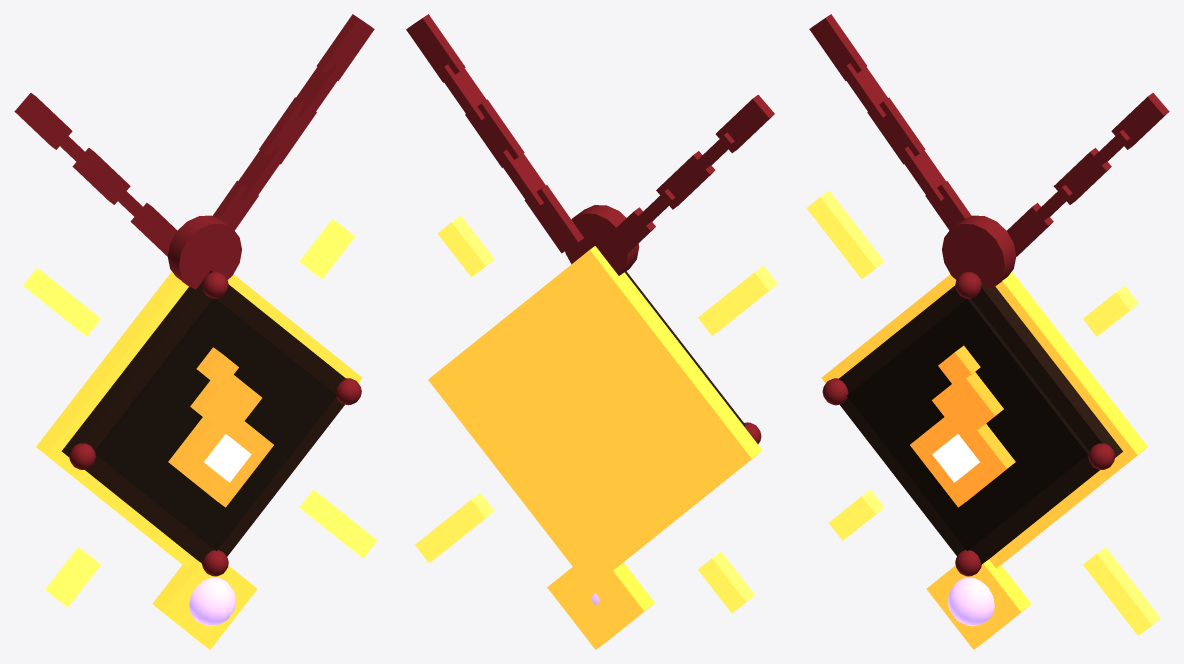
3 renders of one model, left to right at view 1: azimuth 30°, elevation 25°; view 2: azimuth 150°, elevation 25°; view 3: azimuth 330°, elevation 25°, orthographic. The views are drawn at different scales.
Visible parts, largest first — view 1: pyre-sigil; view 2: pyre-sigil; view 3: pyre-sigil.
Part boxes in pixels (x1,y1,x2,y2): pyre-sigil: [14, 14, 377, 649]; pyre-sigil: [406, 14, 777, 649]; pyre-sigil: [806, 14, 1169, 649].
Size of the model in its own units: 0.2328 by 0.3658 by 0.0472.
